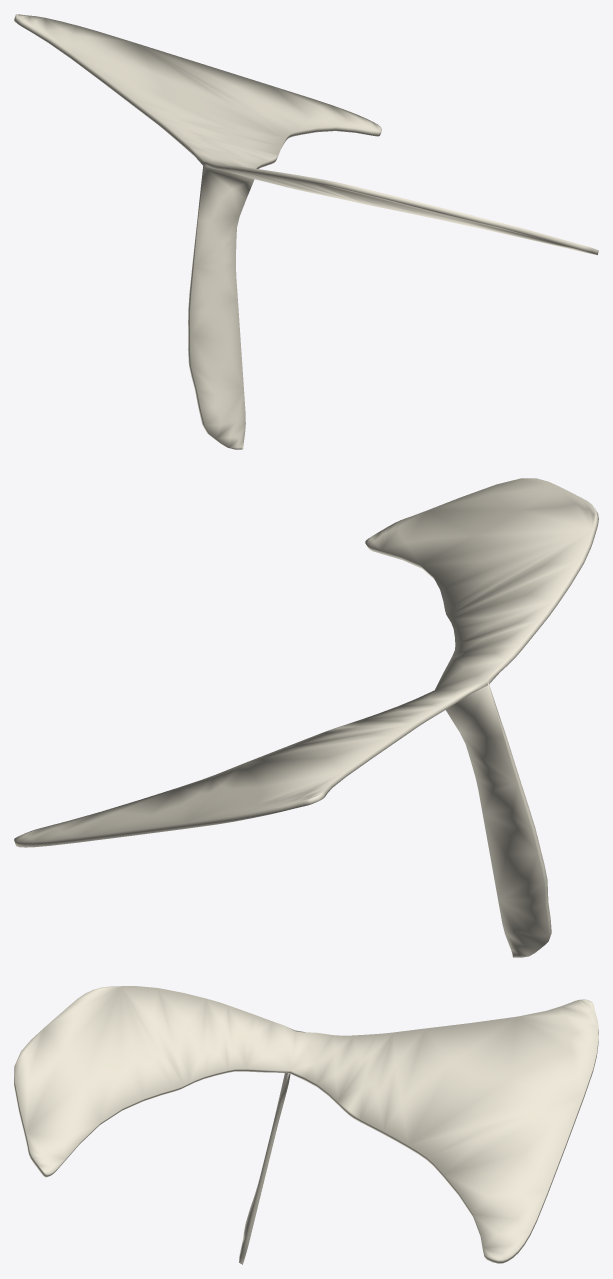
The picture shows the model from 3 angles, top to bottom: view 1: azimuth 30°, elevation 25°; view 2: azimuth 150°, elevation 25°; view 3: azimuth 270°, elevation 25°; orthographic projection. The views are drawn at different scales.
Visible parts, largest first — view 1: ZA_7e76e90a6f8c6897; view 2: ZA_7e76e90a6f8c6897; view 3: ZA_7e76e90a6f8c6897.
Boxes of the visible parts, box(x1,y1,x2,y2) form: ZA_7e76e90a6f8c6897: box(14, 14, 598, 449); ZA_7e76e90a6f8c6897: box(14, 478, 598, 957); ZA_7e76e90a6f8c6897: box(14, 986, 598, 1264).
Size of the model in its own units: 0.0378 by 0.036 by 0.0678.
